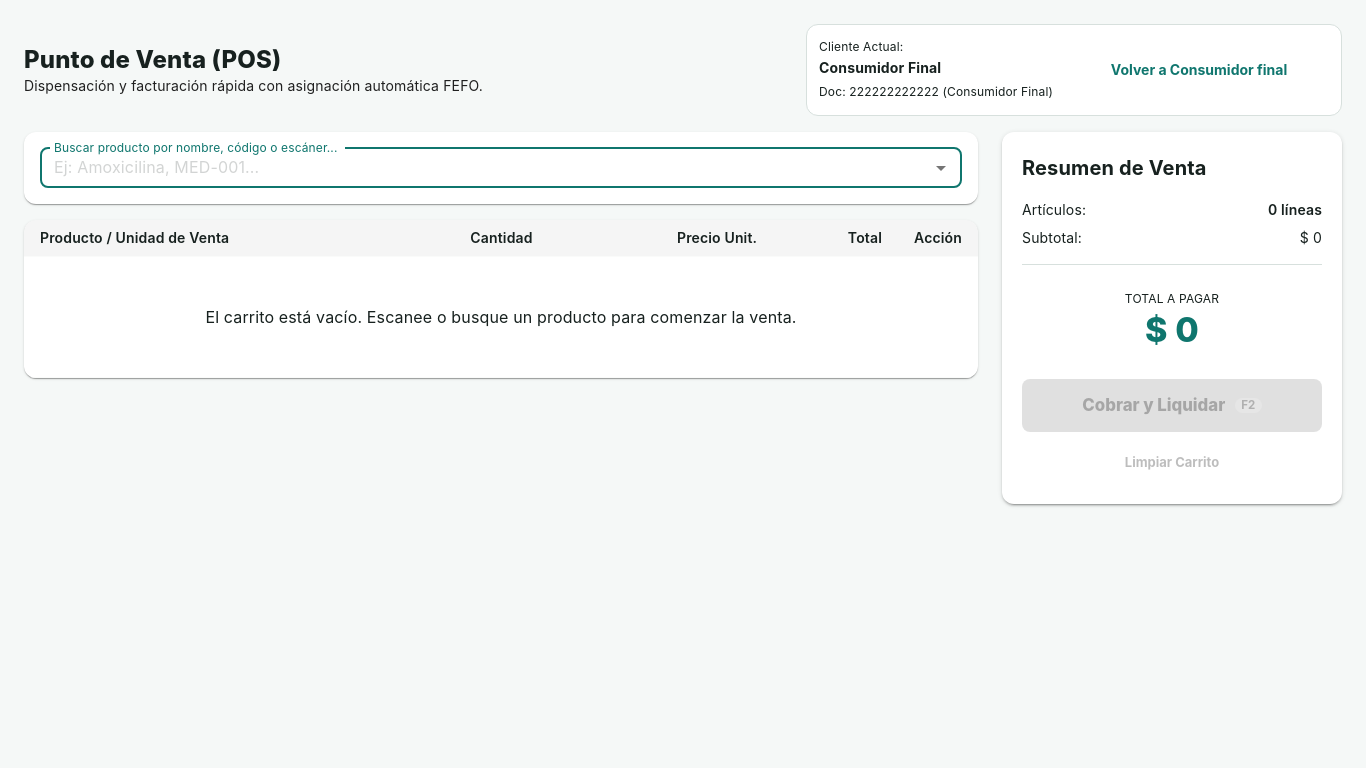
Test: PosPage (Frontend POS UX-03 / HU-017) › debe abrir el diálogo de pago y liquidar la venta en efectivo
The image size is (1366, 768).
Check: the heading "Consumidor Final" is shown, box [819,59,941,76]
// Buscamos y agregamos producto con click en opción
Type "Acetaminofén" into the dropdown labelled "Buscar producto por nombre, código o escáner..." at (484, 168), box [46,154,923,182]
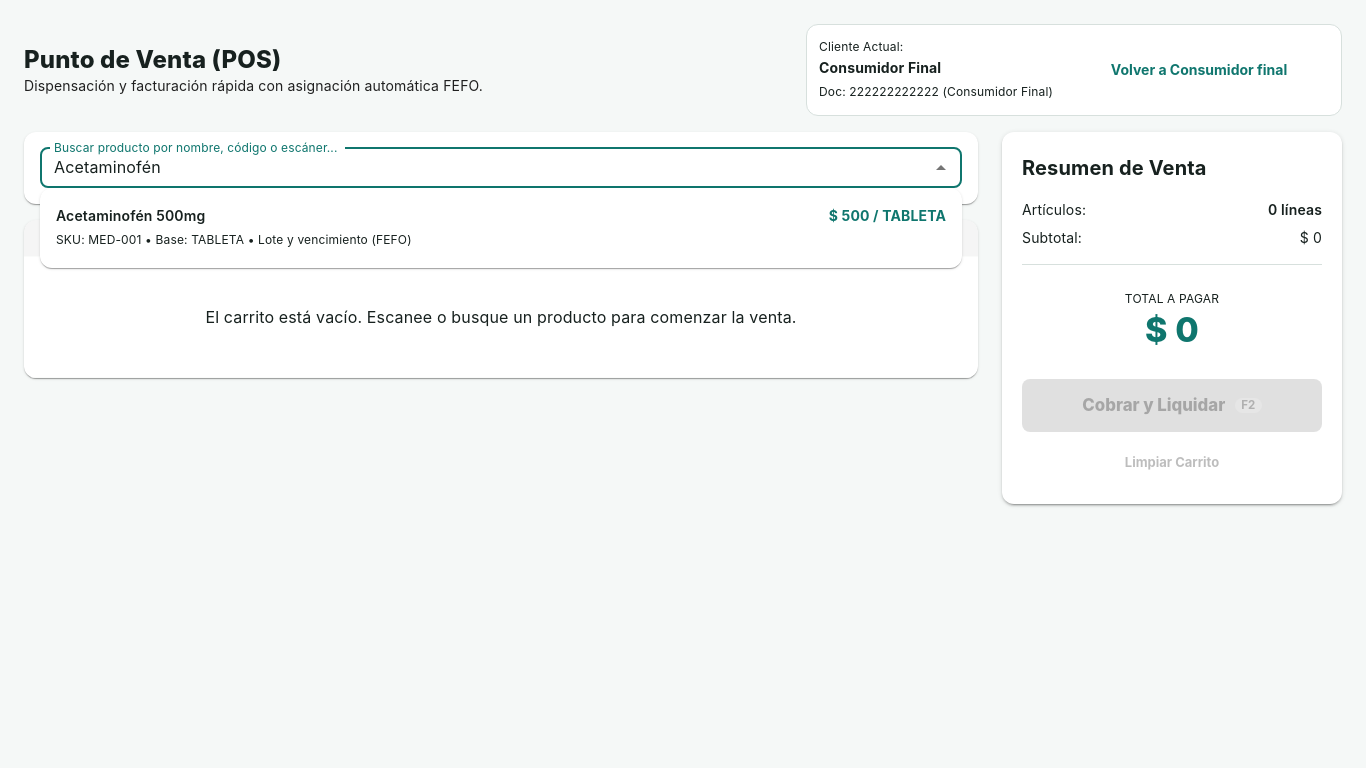
Click the option at (131, 216), box [40,196,962,260]
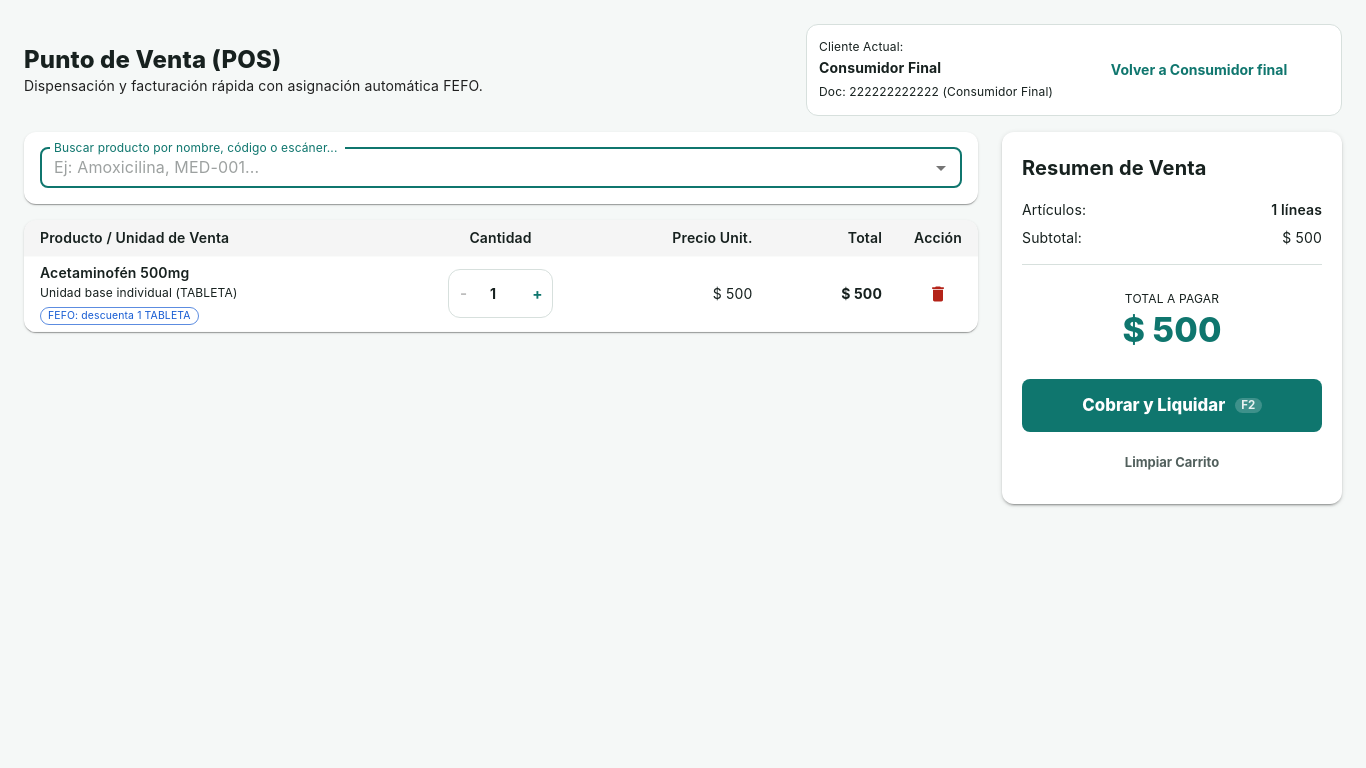
Check: the text "Acetaminofén 500mg" is shown, box [40,264,189,281]
Check: the button "Cobrar y Liquidar F2" is enabled
Click the button "Cobrar y Liquidar F2" at (1172, 406), box [1022,379,1322,432]
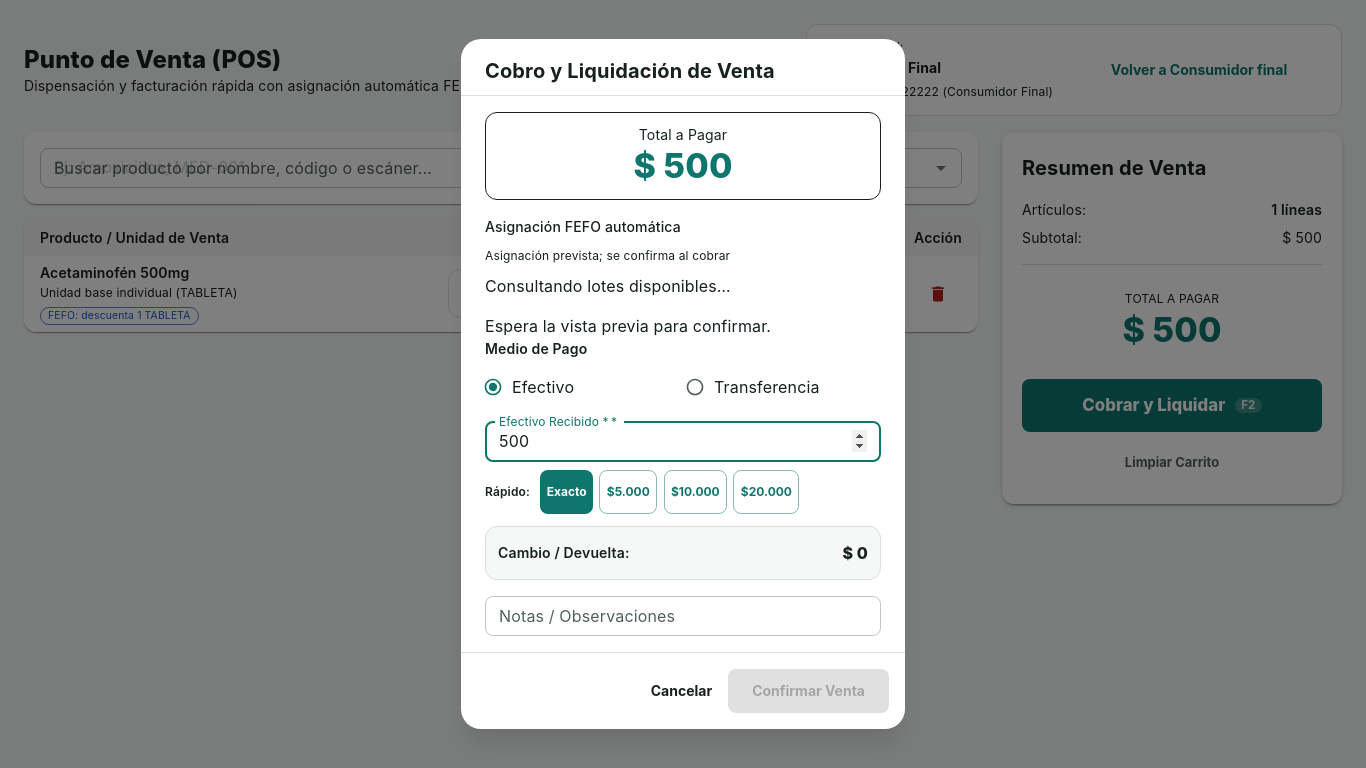
Check: the heading "Cobro y Liquidación de Venta" is shown, box [485,59,775,83]
// Ingresamos dinero recibido
Replace the text in the number field labelled "Efectivo Recibido * *" with "2000" at (683, 442), box [485,422,881,462]
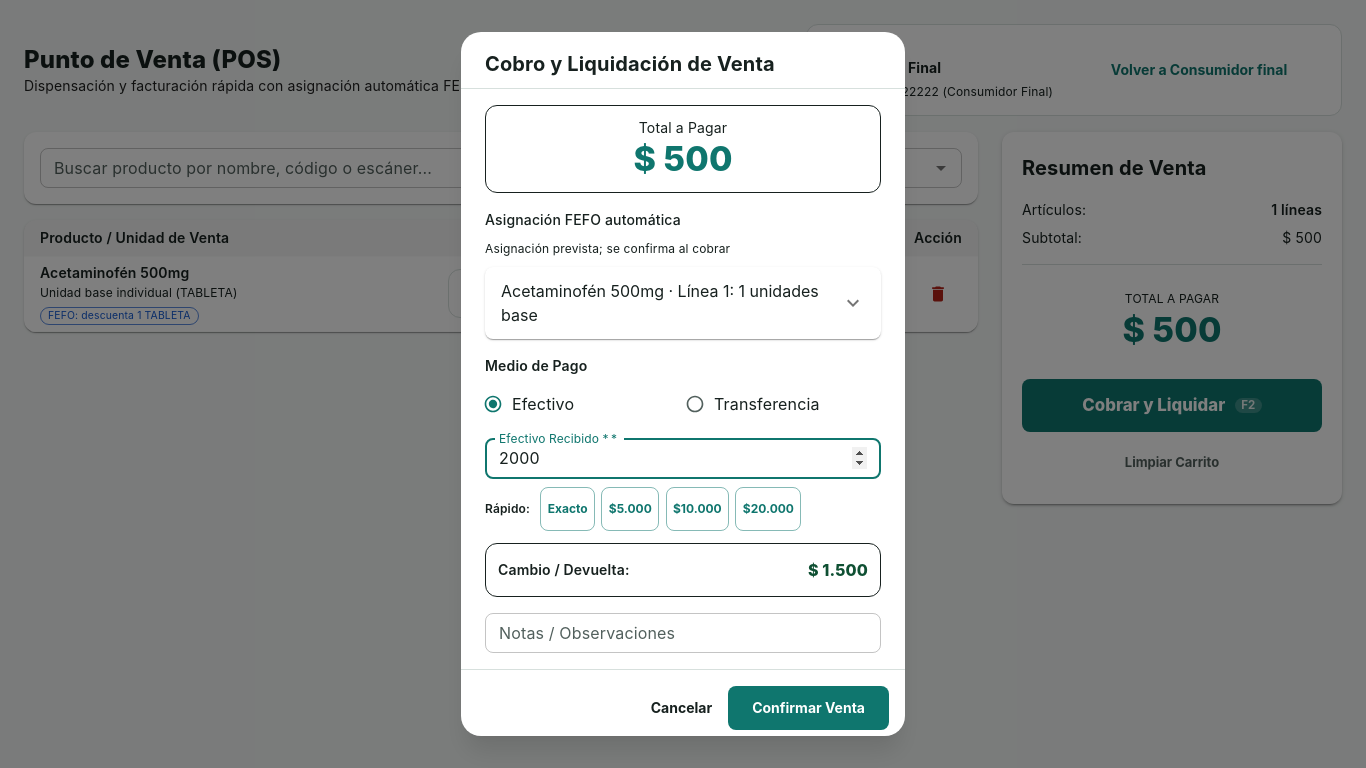
Check: the button with test id "confirm-payment-btn" is enabled
// Confirmamos la venta
Click the button with test id "confirm-payment-btn" at (809, 708), box [728,686,889,730]
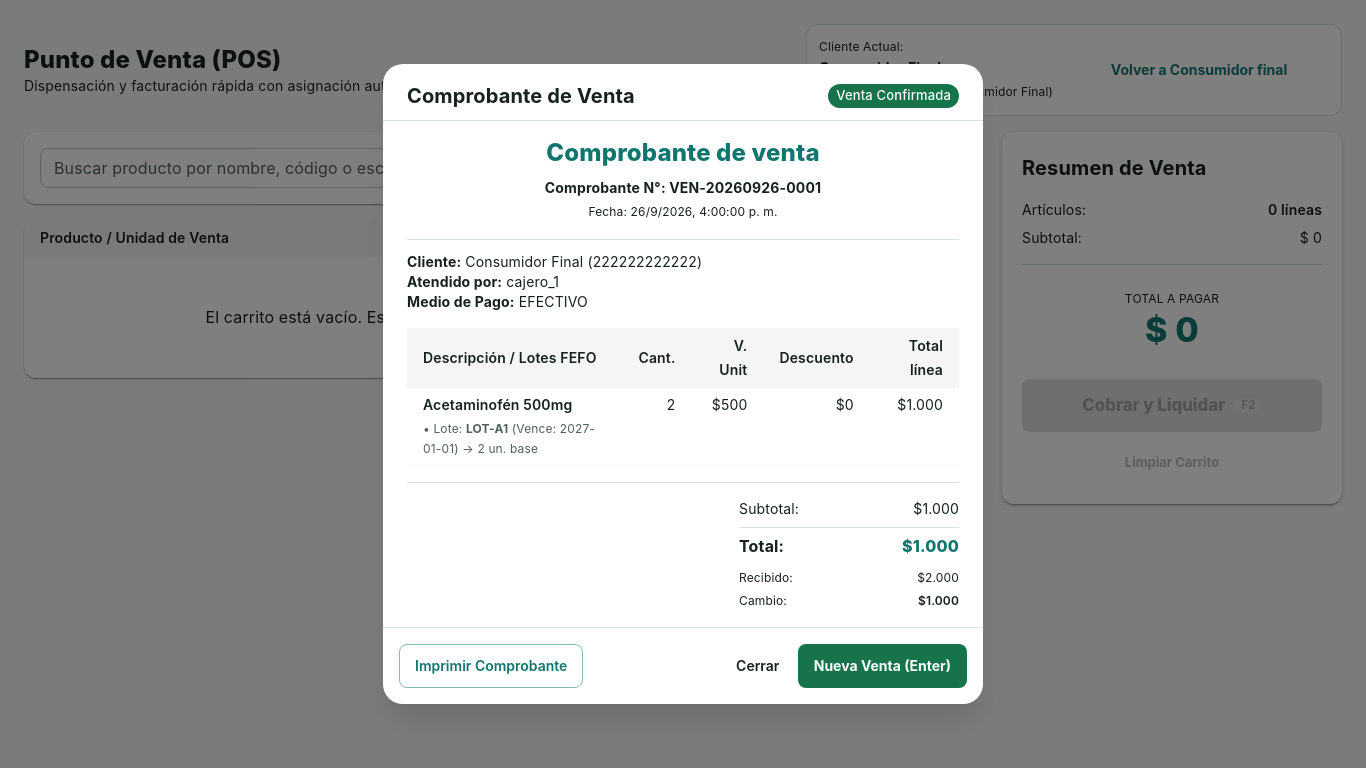
Check: the heading "Comprobante N°: VEN-20260926-0001" is shown, box [545,179,821,196]
